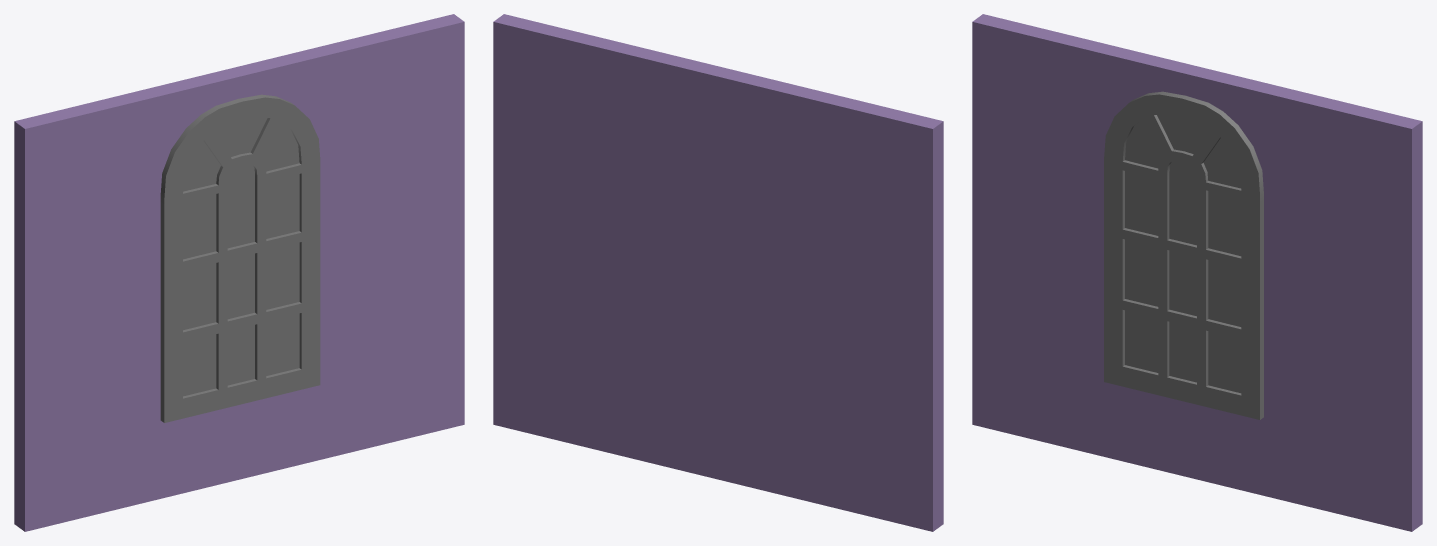
The model's file is moduloyventana.fbx.
3 views of the same model, side by side, from view 1: azimuth 30°, elevation 25°; view 2: azimuth 150°, elevation 25°; view 3: azimuth 330°, elevation 25° (orthographic).
Visible parts, largest first — view 1: Box008, Plane004, Plane005; view 2: Box008; view 3: Box008, Plane004, Plane005.
Part boxes in pixels (x1,y1,x2,y2): Box008: (14,14,464,531); Plane004: (160,94,320,422); Plane005: (183,117,299,396); Box008: (493,14,943,531); Box008: (972,14,1422,531); Plane004: (1104,91,1263,419); Plane005: (1125,114,1241,393).
Bounding box in the file's own units: 199 × 174 × 11.36.
